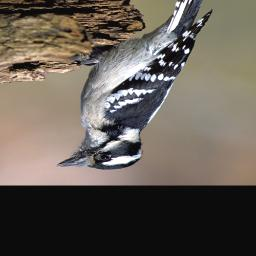Woodpecker: (56, 0, 214, 173)
